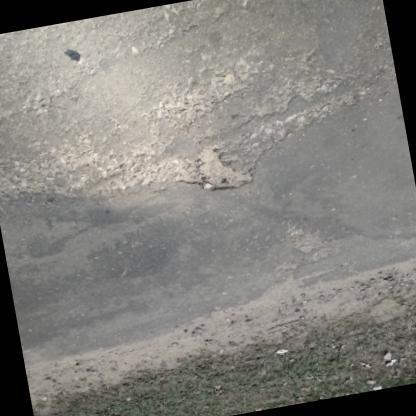pothole: (195, 144, 254, 195)
